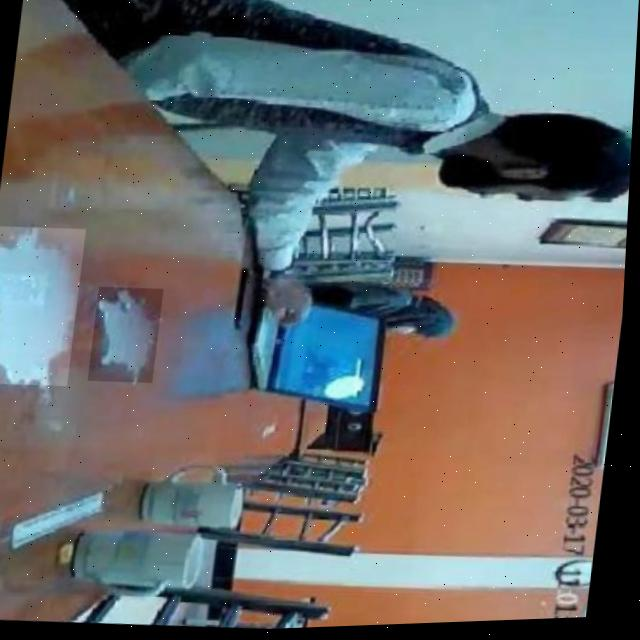spillage: (0, 228, 78, 385), (99, 288, 162, 383)
